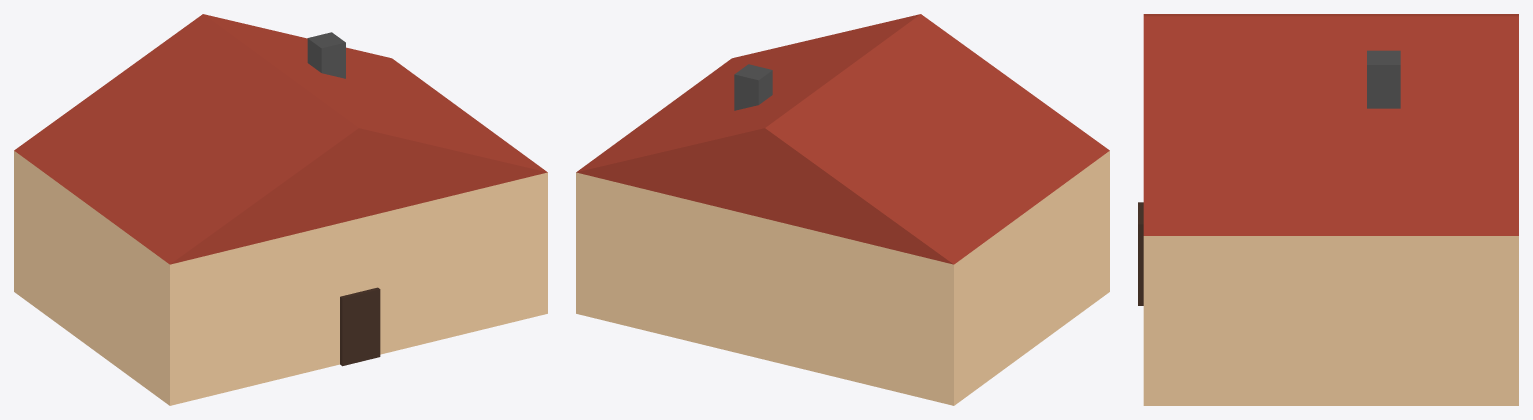
The model's file is house_test.glb.
3 views of the same model, side by side, from view 1: azimuth 30°, elevation 25°; view 2: azimuth 150°, elevation 25°; view 3: azimuth 270°, elevation 25° (orthographic). The views are drawn at different scales.
Bounding box in the file's own units: 14 × 8.2 × 10.16.
